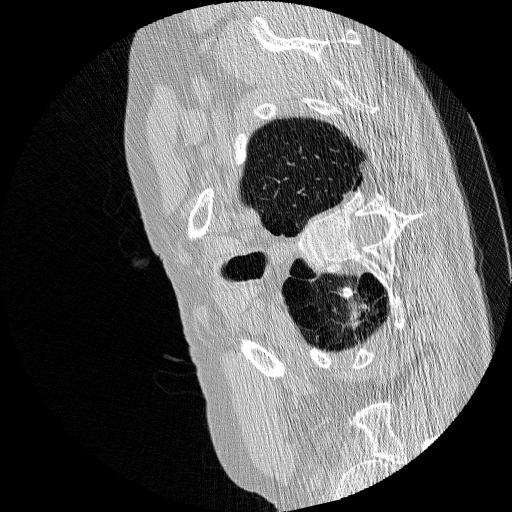nodule: (340, 286, 357, 303)
